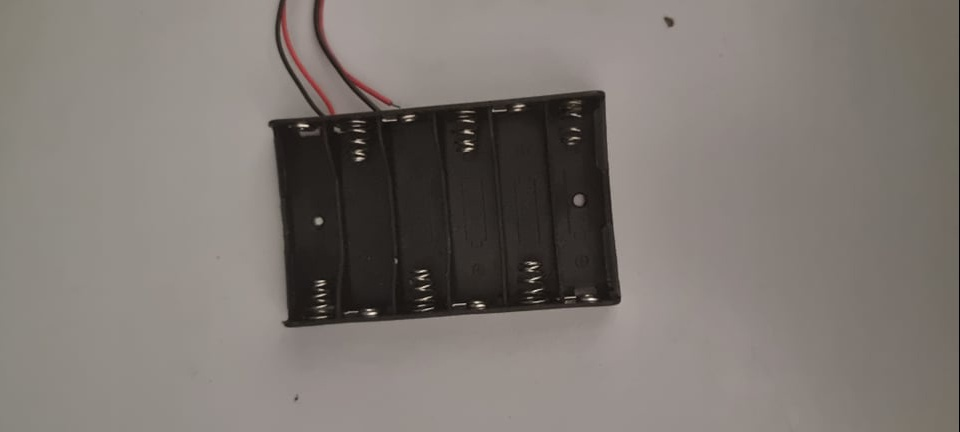BATTERY BOX: (264, 75, 623, 327)
